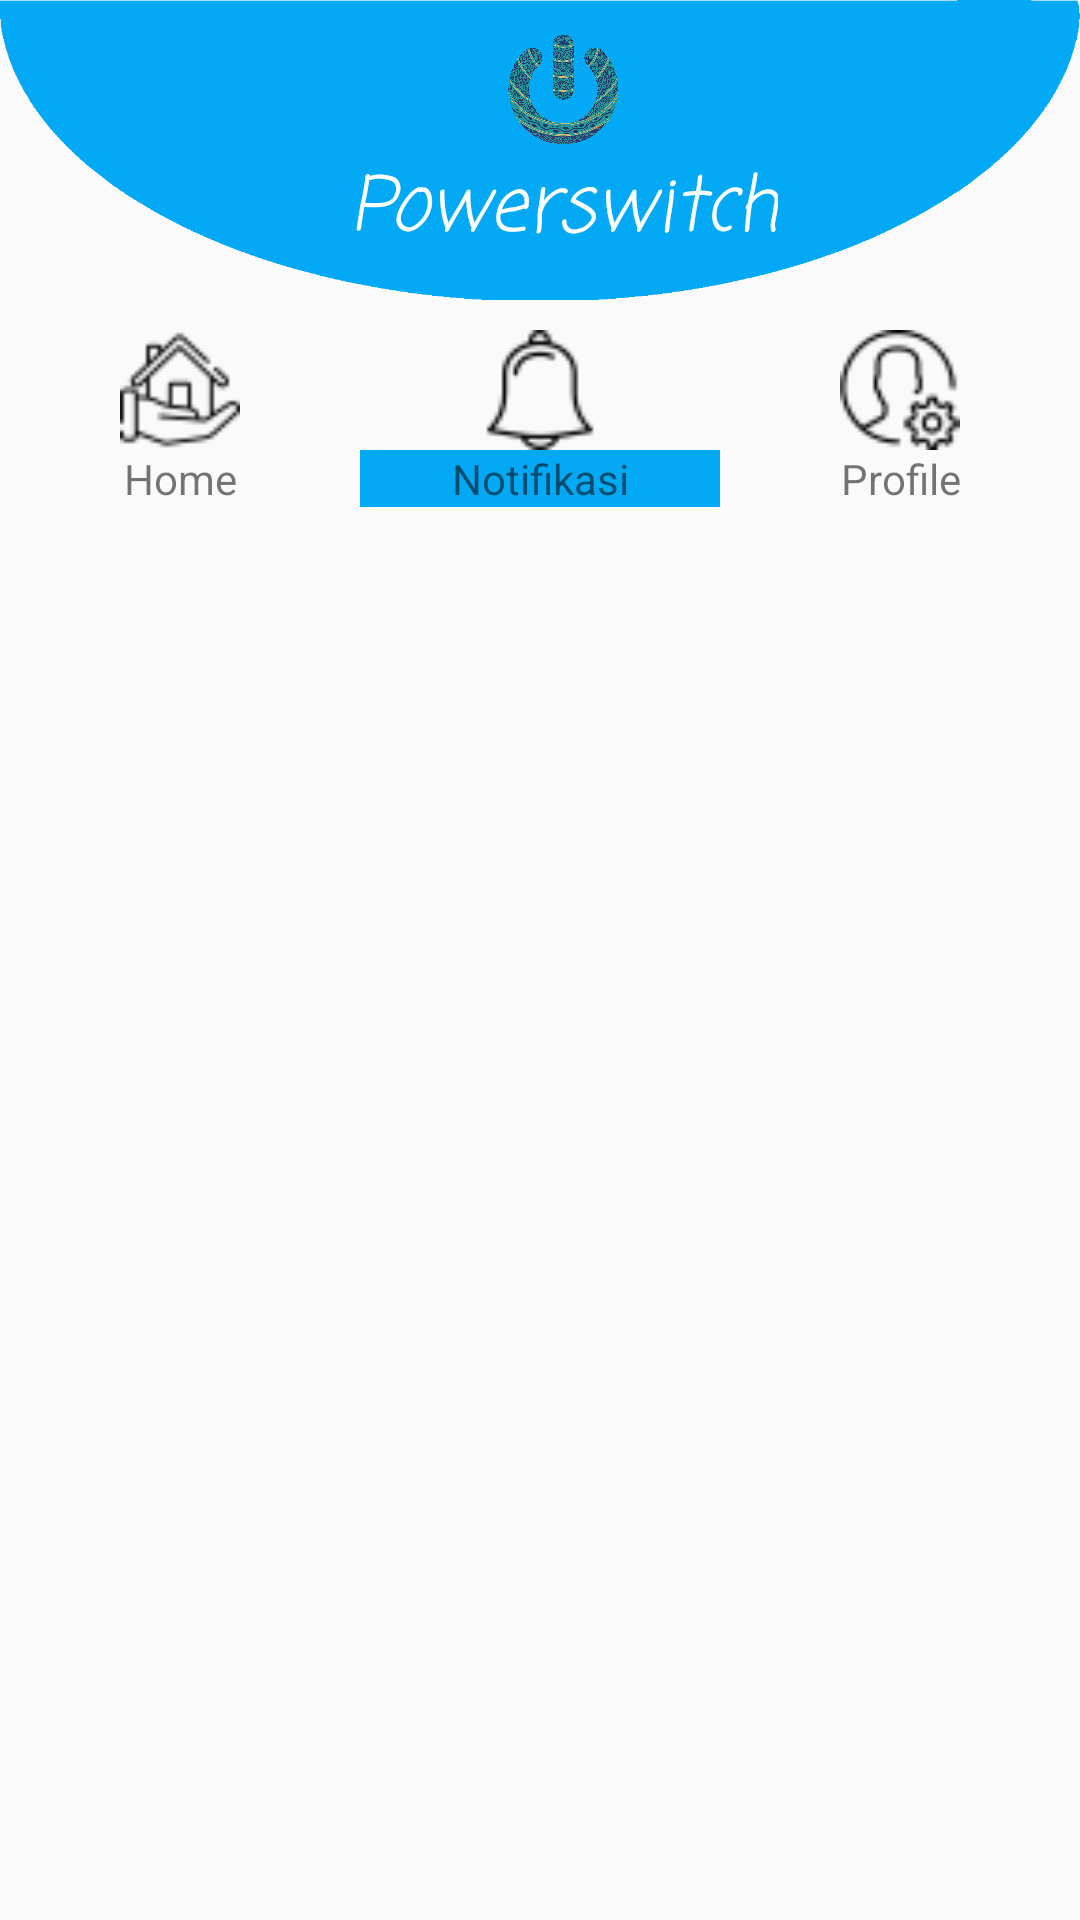

Screen size 1080×1920. Icon name, then its box in pixels as (x1, y1, x2, y2):
user: (840, 330, 960, 450)
